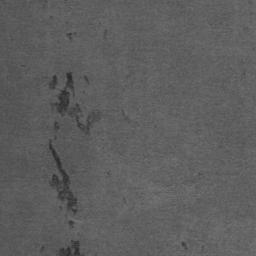Iron scale compression: (50, 72, 92, 135), (48, 139, 77, 212), (56, 242, 81, 256), (49, 75, 57, 89), (53, 120, 59, 131)
